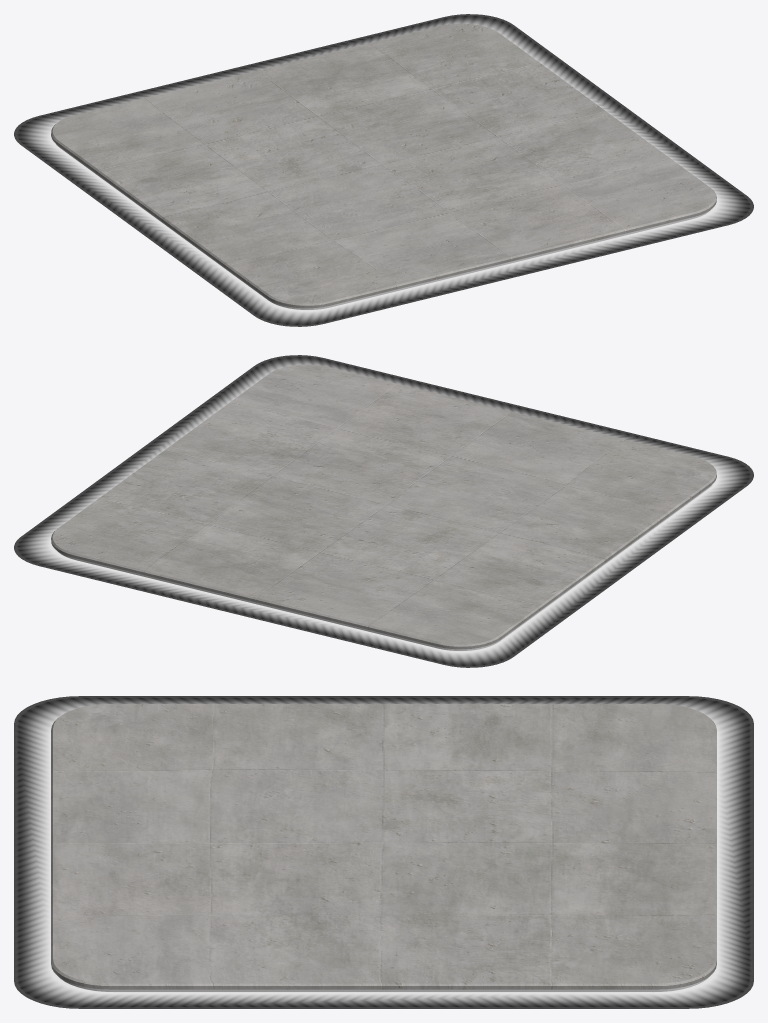
File: FloorIsland.fbx
3 renders of one model, top to bottom at view 1: azimuth 30°, elevation 25°; view 2: azimuth 150°, elevation 25°; view 3: azimuth 270°, elevation 25°, orthographic. The views are drawn at different scales.
Parts seen in each view (by area): view 1: FloorSegment; view 2: FloorSegment; view 3: FloorSegment.
Boxes of the visible parts, x1,y1,x2,y2 form: FloorSegment: (14,14,753,326); FloorSegment: (14,355,753,667); FloorSegment: (14,696,753,1008).
Size of the model in its own units: 11.13 by 0.1697 by 11.13.
